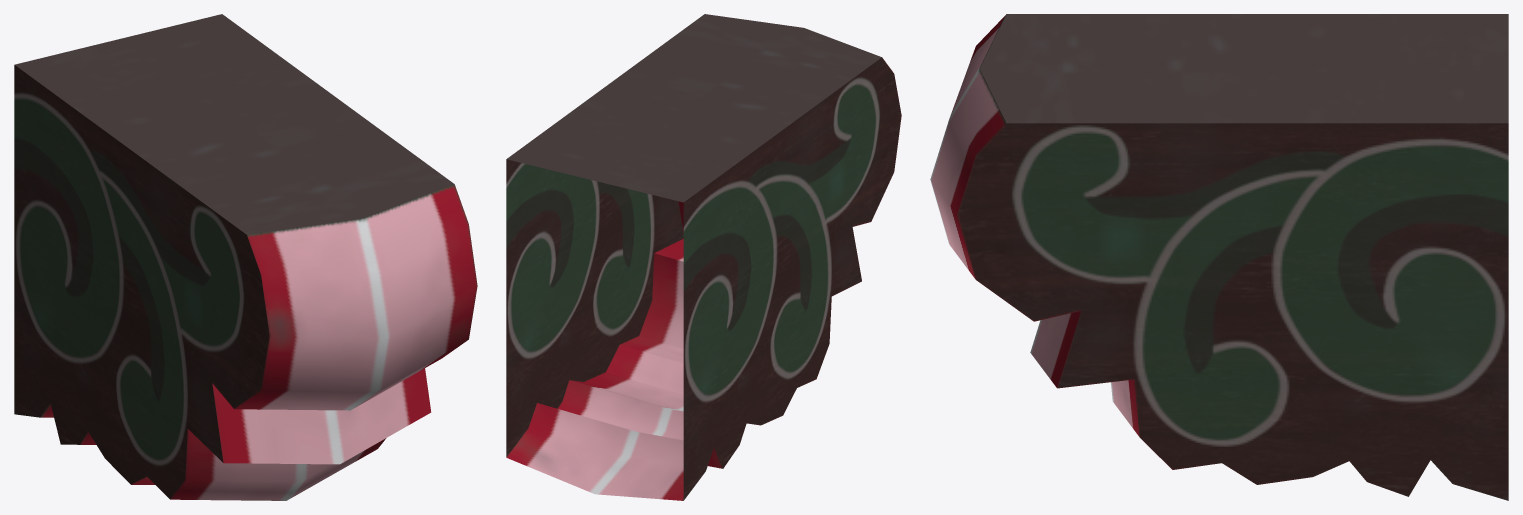
File: SM_Gongpo02b.fbx
The picture shows the model from 3 angles, left to right: view 1: azimuth 30°, elevation 25°; view 2: azimuth 150°, elevation 25°; view 3: azimuth 270°, elevation 25°; orthographic projection. The views are drawn at different scales.
Visible parts, largest first — view 1: SM_Gongpo02b; view 2: SM_Gongpo02b; view 3: SM_Gongpo02b.
Part boxes in pixels (x1,y1,x2,y2): SM_Gongpo02b: [14, 14, 477, 500]; SM_Gongpo02b: [506, 14, 901, 500]; SM_Gongpo02b: [930, 14, 1508, 500].
Size of the model in its own units: 10 by 22.32 by 16.88.
1 material, 1 textured.
